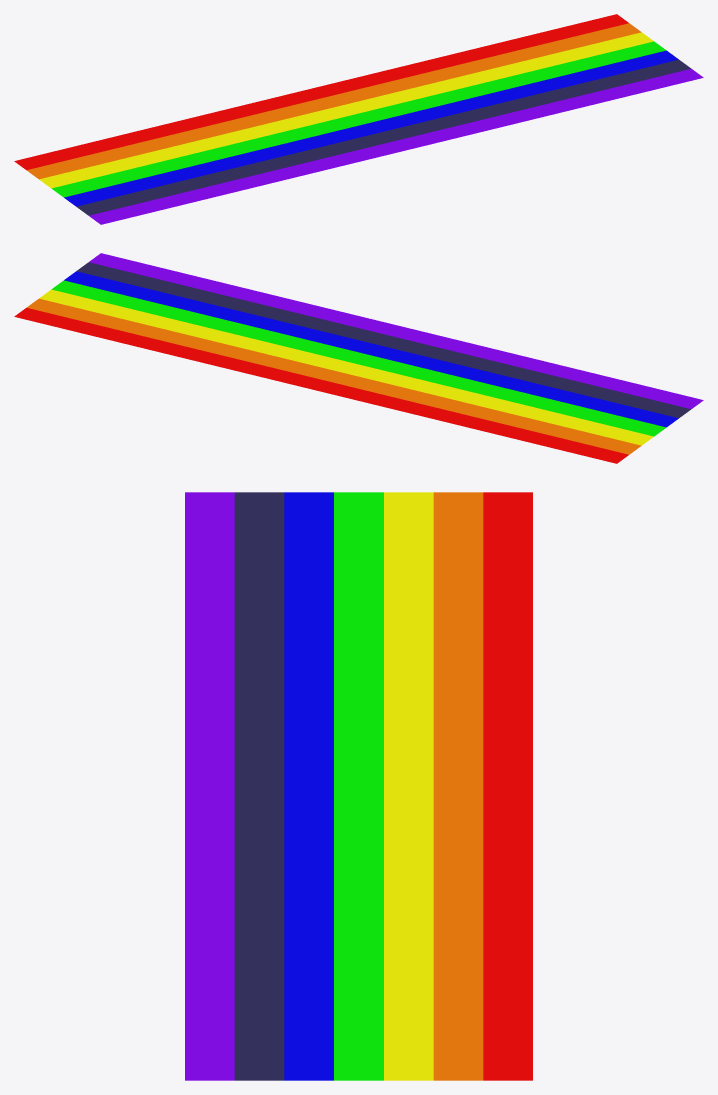
The model's file is Rainbow Flat.fbx.
3 views of the same model, one above another, from view 1: azimuth 30°, elevation 25°; view 2: azimuth 150°, elevation 25°; view 3: azimuth 270°, elevation 25° (orthographic). The views are drawn at different scales.
Visible parts, largest first — view 1: Rainbow Flat; view 2: Rainbow Flat; view 3: Rainbow Flat.
Part boxes in pixels (x1=…): Rainbow Flat: x1=14, y1=14, x2=703, y2=224; Rainbow Flat: x1=14, y1=253, x2=703, y2=463; Rainbow Flat: x1=185, y1=492, x2=532, y2=1080.
Size of the model in its own units: 400 by 1.63e-05 by 100.
